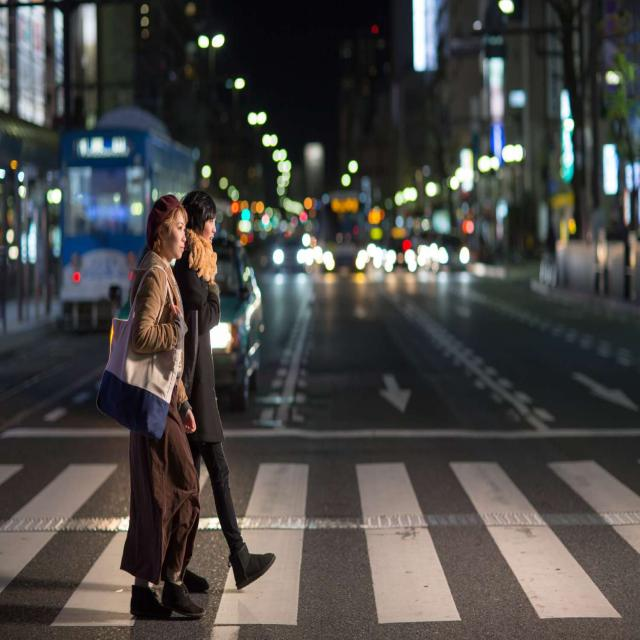bus: (318, 188, 368, 274)
car: (206, 232, 266, 410), (431, 234, 468, 273), (382, 236, 418, 274), (271, 237, 307, 273)
